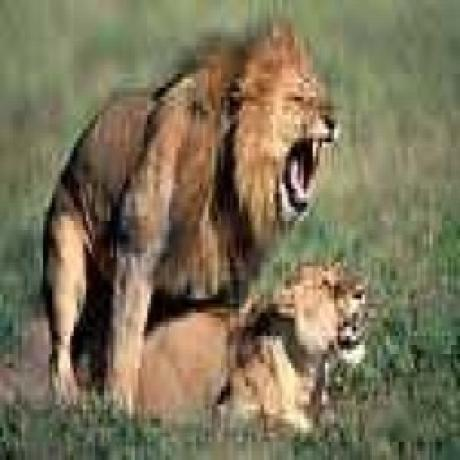Lion: (48, 17, 340, 412), (140, 260, 370, 440)
